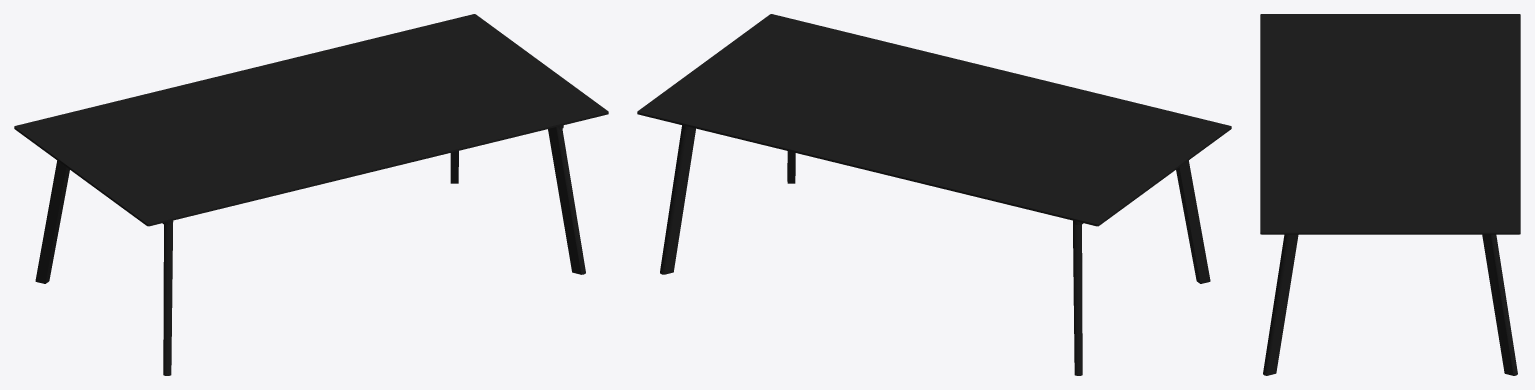
The model's file is cph_table.gltf.
3 renders of one model, left to right at view 1: azimuth 30°, elevation 25°; view 2: azimuth 150°, elevation 25°; view 3: azimuth 270°, elevation 25°, orthographic. The views are drawn at different scales.
Parts seen in each view (by area): view 1: Mesh3; view 2: Mesh3; view 3: Mesh3.
Part boxes in pixels (x1=…): Mesh3: x1=14, y1=14, x2=608, y2=375; Mesh3: x1=637, y1=14, x2=1231, y2=375; Mesh3: x1=1260, y1=14, x2=1520, y2=375.
Size of the model in its own units: 1.2 by 0.3918 by 0.6048.
1 material, 1 textured.
